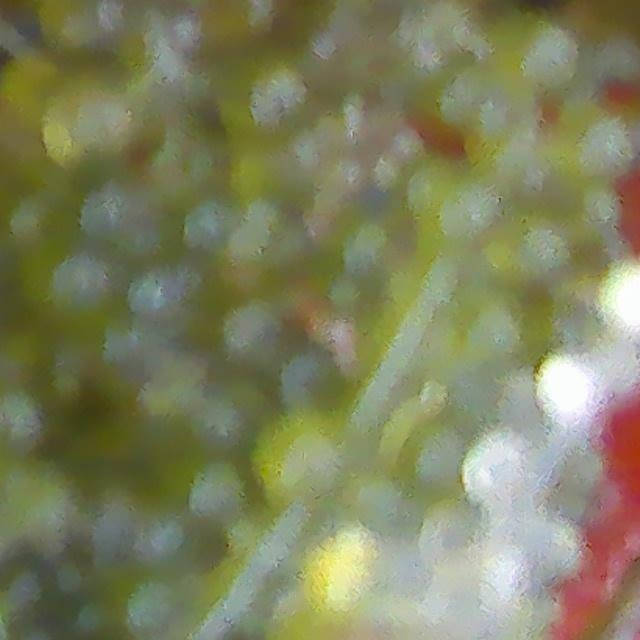SeaGrape: (242, 397, 357, 512), (18, 240, 120, 332), (0, 455, 91, 555), (205, 63, 305, 152), (190, 369, 274, 456), (169, 449, 255, 529), (340, 461, 422, 544), (212, 290, 294, 373), (460, 287, 532, 368), (397, 417, 469, 498), (527, 349, 599, 426), (464, 431, 541, 503), (415, 495, 487, 569), (0, 377, 54, 459), (125, 262, 192, 328), (593, 256, 640, 336), (476, 525, 529, 587), (604, 333, 640, 389)
